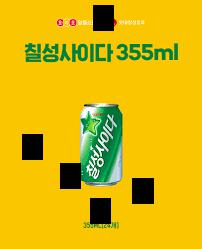chilsungcider: (75, 101, 129, 189)
